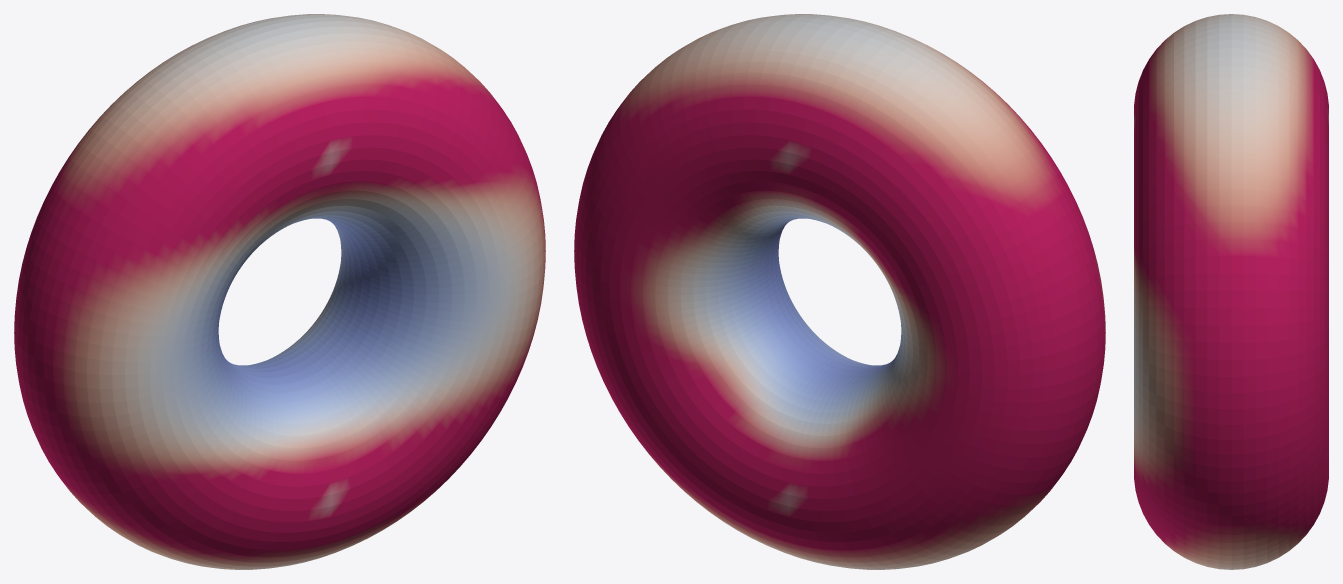
The picture shows the model from 3 angles, left to right: view 1: azimuth 30°, elevation 25°; view 2: azimuth 150°, elevation 25°; view 3: azimuth 270°, elevation 25°; orthographic projection. The views are drawn at different scales.
Visible parts, largest first — view 1: world; view 2: world; view 3: world.
Part boxes in pixels (<box>): world: <box>14,14,545,569</box>; world: <box>574,14,1105,569</box>; world: <box>1134,14,1328,569</box>.
Bounding box in the file's own units: 24.67 × 24.67 × 8.65.
